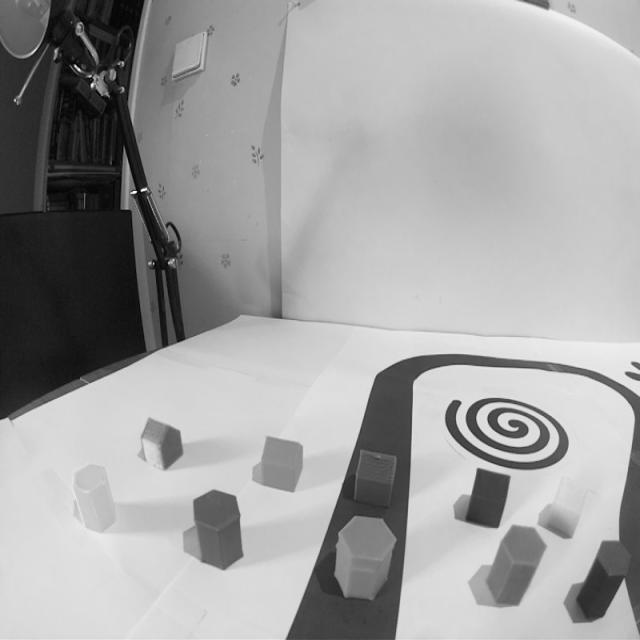hexagon: (334, 515, 397, 602), (486, 524, 546, 607), (576, 539, 632, 619), (192, 489, 244, 572)
home: (72, 464, 116, 534), (466, 468, 512, 529), (546, 476, 590, 538), (256, 436, 304, 492), (354, 450, 398, 510), (139, 418, 182, 472)
lineStraight: (282, 451, 414, 640)
nest: (443, 394, 573, 470)
